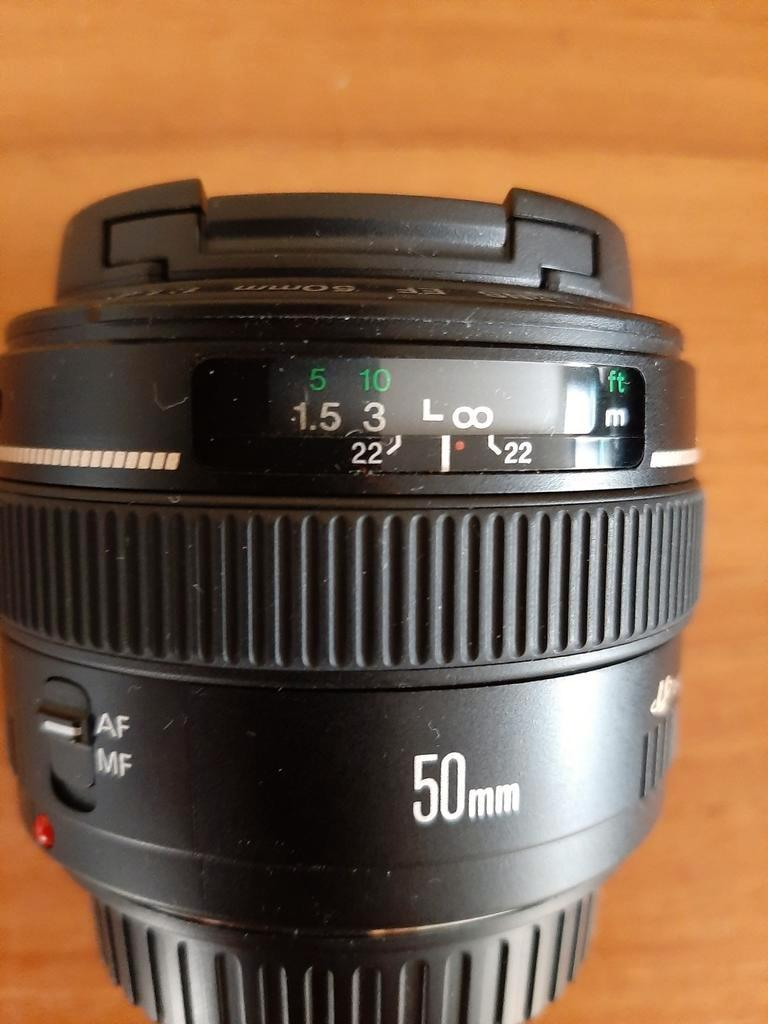lense: (0, 184, 705, 1023)
